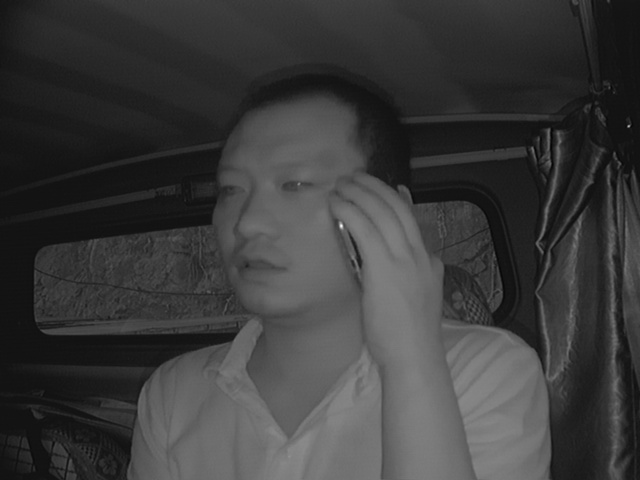hand: (328, 172, 448, 362)
